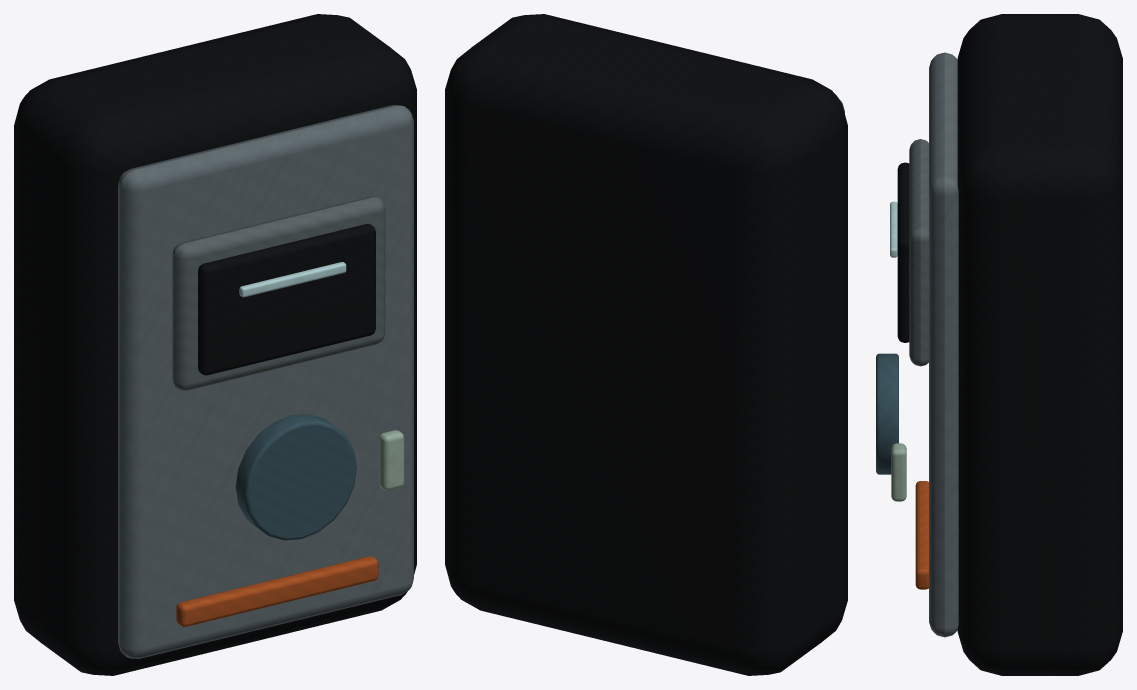
File: AccessReader.fbx
The picture shows the model from 3 angles, left to right: view 1: azimuth 30°, elevation 25°; view 2: azimuth 150°, elevation 25°; view 3: azimuth 270°, elevation 25°; orthographic projection. The views are drawn at different scales.
Visible parts, largest first — view 1: AccessReader_Mesh; view 2: AccessReader_Mesh; view 3: AccessReader_Mesh.
Boxes of the visible parts, x1=… form: AccessReader_Mesh: x1=14, y1=14, x2=416, y2=675; AccessReader_Mesh: x1=445, y1=14, x2=847, y2=675; AccessReader_Mesh: x1=876, y1=14, x2=1122, y2=675.
Bounding box in the file's own units: 30 × 46 × 19.4.
